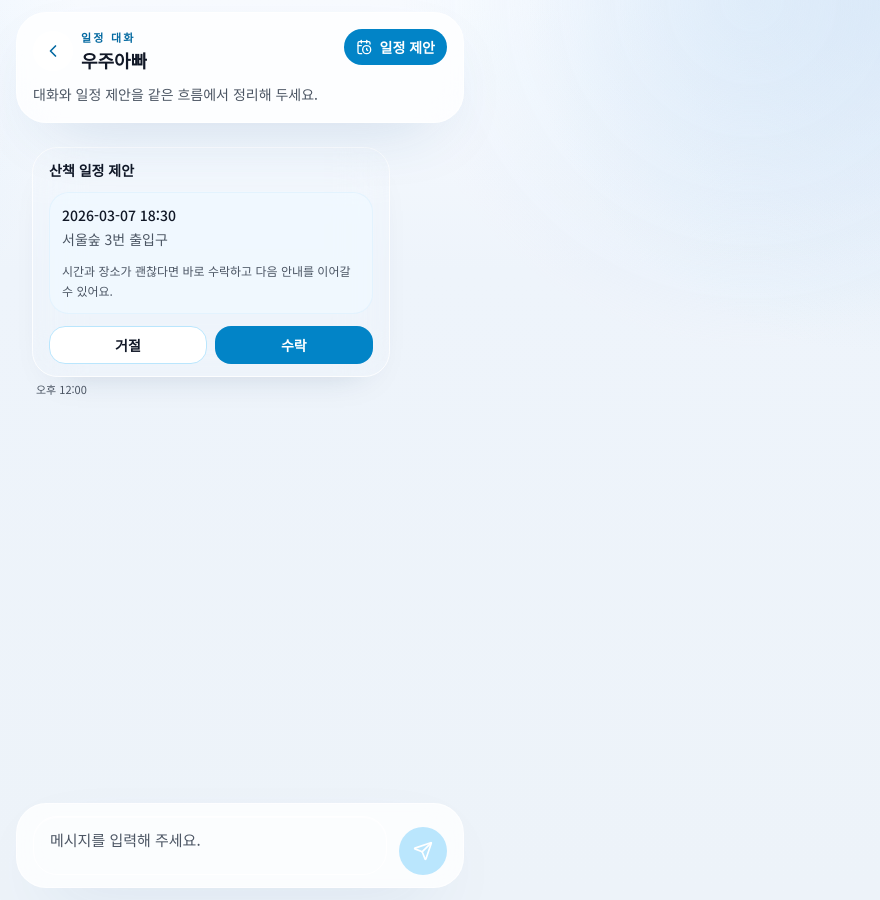
ChatRoomPage schedule response rendering › locks action optimistically to prevent duplicate clicks
Click the button "수락".
click(294, 344)  # box 215,326 -> 373,364
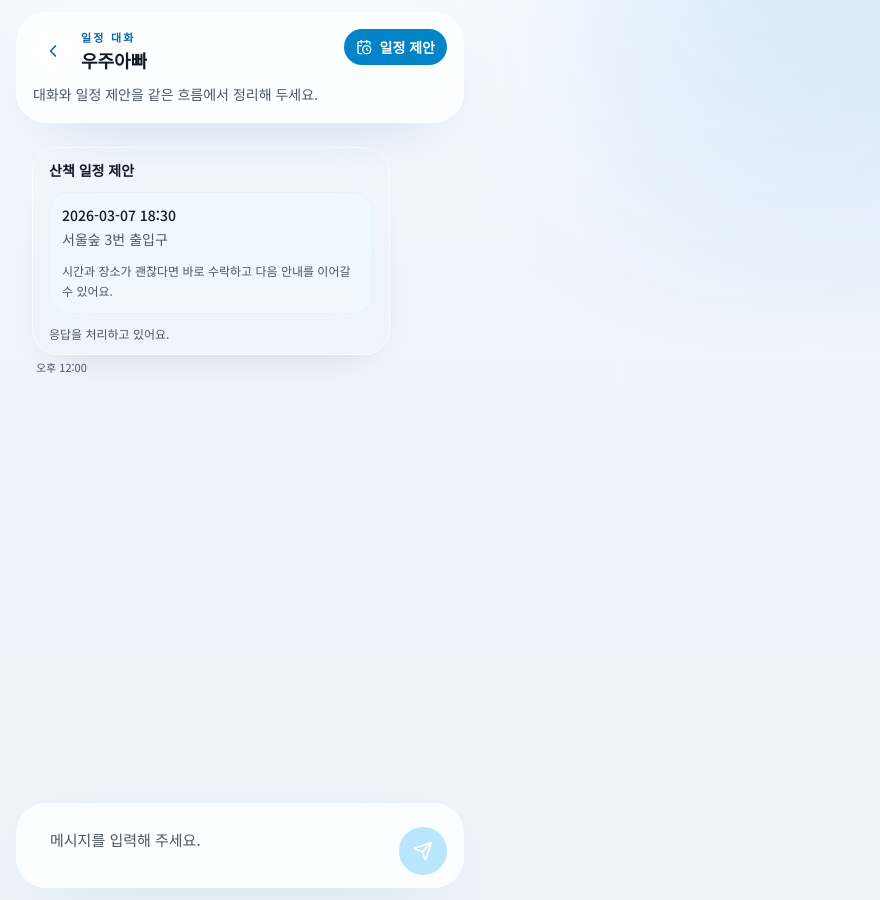
Expected: the button "거절" is gone
